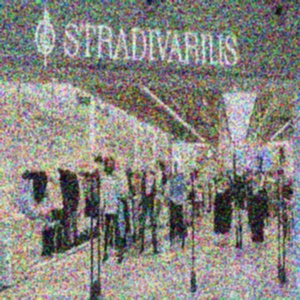stradivarius: (230, 0, 262, 3)
